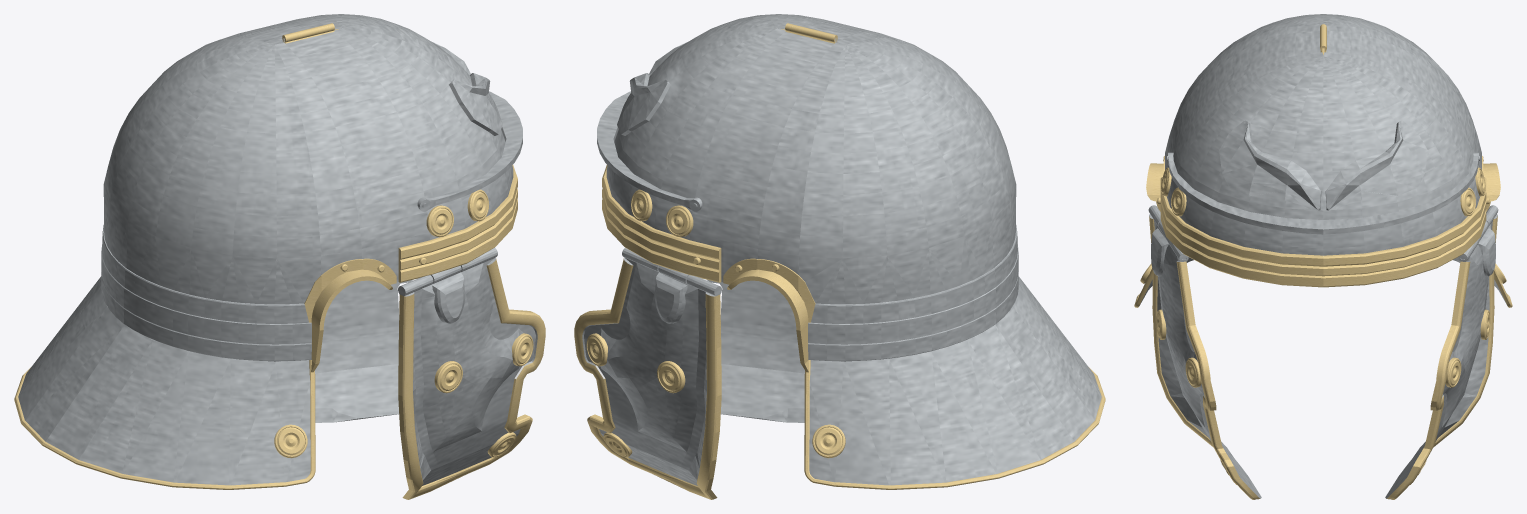
File: model_helmet_v1_.gltf
3 renders of one model, left to right at view 1: azimuth 30°, elevation 25°; view 2: azimuth 150°, elevation 25°; view 3: azimuth 270°, elevation 25°, orthographic. The views are drawn at different scales.
Visible parts, largest first — view 1: SketchUp, group_0, group_1, Component_1 (×4); view 2: SketchUp, group_1, group_0, Component_1 (×4); view 3: SketchUp, group_0, group_1.
Part boxes in pixels (x1,y1,x2,y2): SketchUp: (14,14,522,489); group_0: (398,247,545,499); group_1: (315,279,412,422); Component_1 (×4): (274,205,533,458); SketchUp: (597,14,1105,489); group_1: (574,247,721,499); group_0: (707,279,804,422); Component_1 (×4): (586,205,845,458); SketchUp: (1134,14,1512,307); group_0: (1148,205,1261,499); group_1: (1385,205,1498,499).
Size of the model in its own units: 0.8921 by 0.816 by 0.6948.
Materials: 4 (3 with a texture image).
